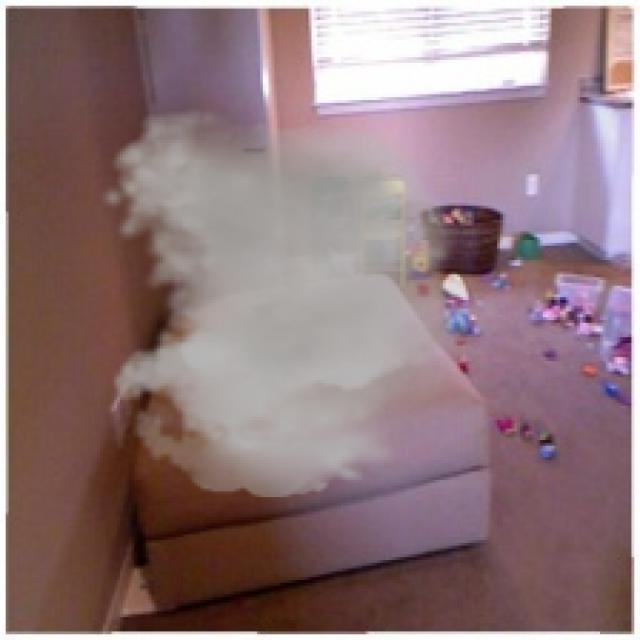Smoke: (100, 109, 509, 498)
